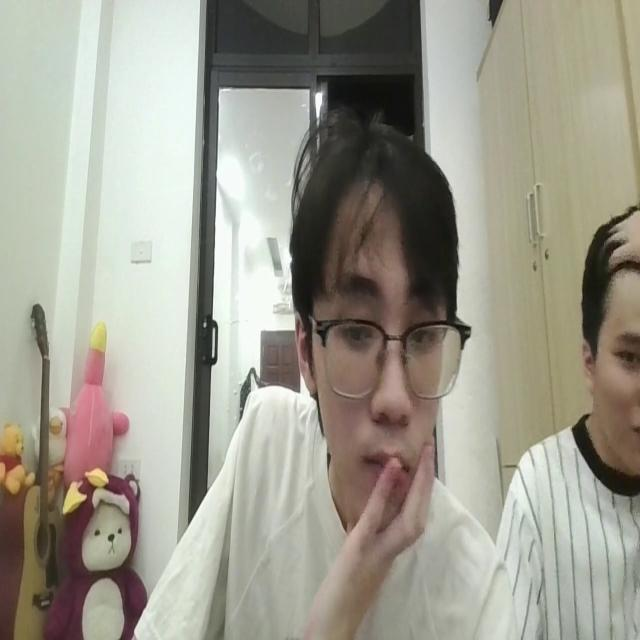extra_person: (500, 201, 640, 640)
student: (123, 106, 512, 640)
